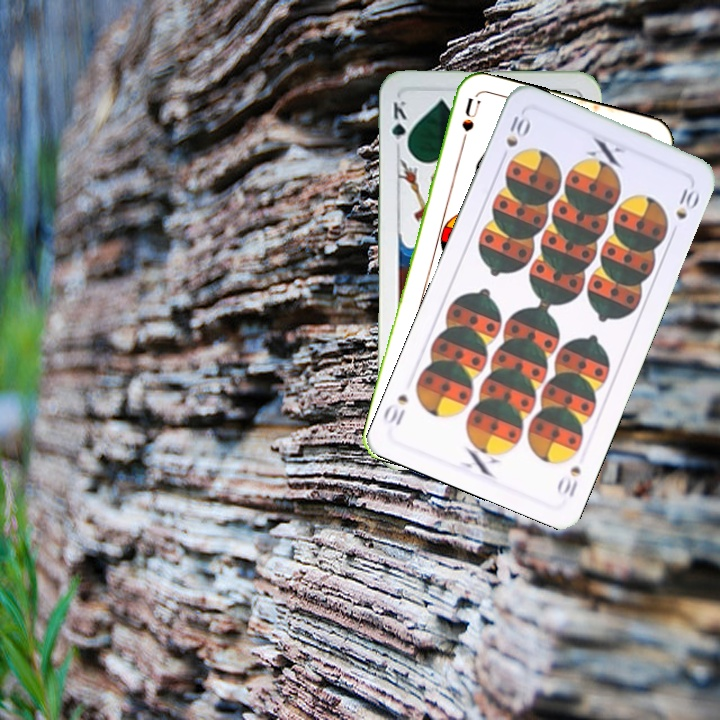GK: (387, 97, 410, 154)
S10: (496, 108, 533, 165), (552, 462, 584, 500)
SU: (456, 95, 482, 154)
